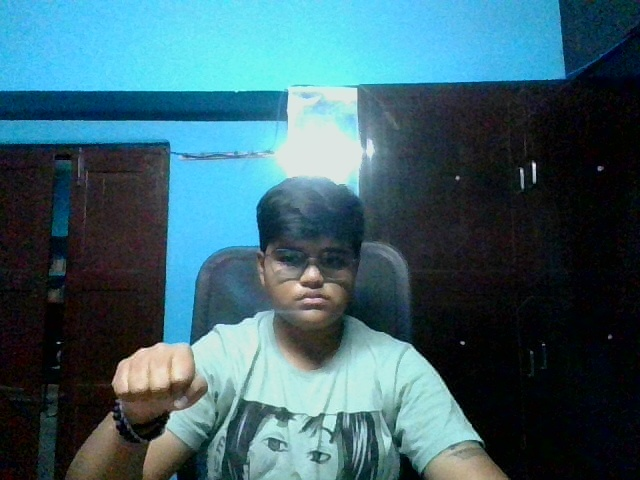YES: (59, 319, 254, 479)
